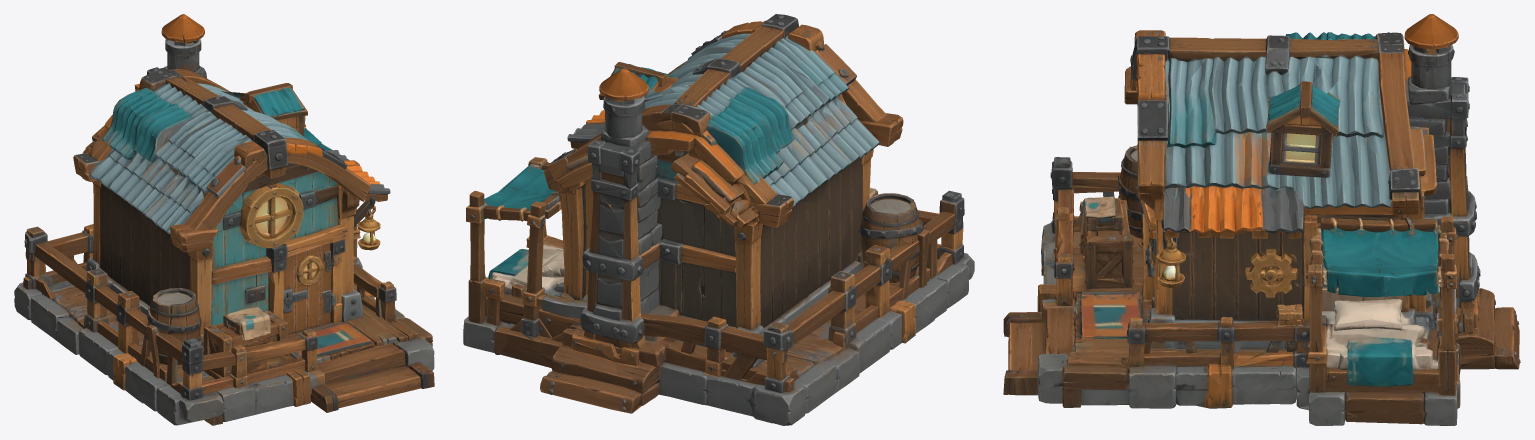
File: building_bunk.glb
The picture shows the model from 3 angles, left to right: view 1: azimuth 30°, elevation 25°; view 2: azimuth 150°, elevation 25°; view 3: azimuth 270°, elevation 25°; orthographic projection. The views are drawn at different scales.
Visible parts, largest first — view 1: output_unwrapped; view 2: output_unwrapped; view 3: output_unwrapped.
Part boxes in pixels (bbox=[...]): output_unwrapped: bbox=[14, 14, 434, 425]; output_unwrapped: bbox=[463, 14, 974, 425]; output_unwrapped: bbox=[1003, 14, 1520, 425].
Bounding box in the file's own units: 1.53 × 1.35 × 1.9.
1 material, 1 textured.
